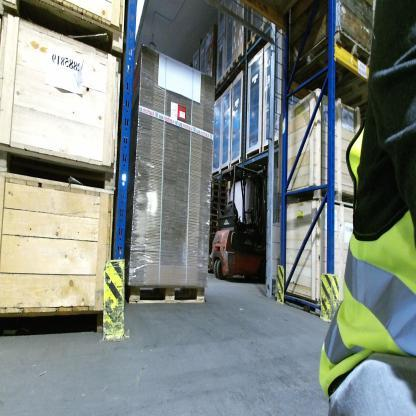pallets: (294, 28, 376, 92), (206, 173, 230, 272), (124, 281, 207, 306)
